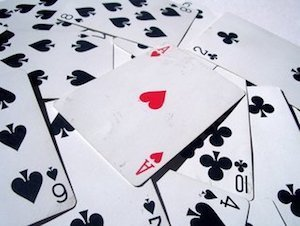AceOfHearts: (58, 41, 218, 183)
TenOfClubs: (179, 107, 256, 202)
